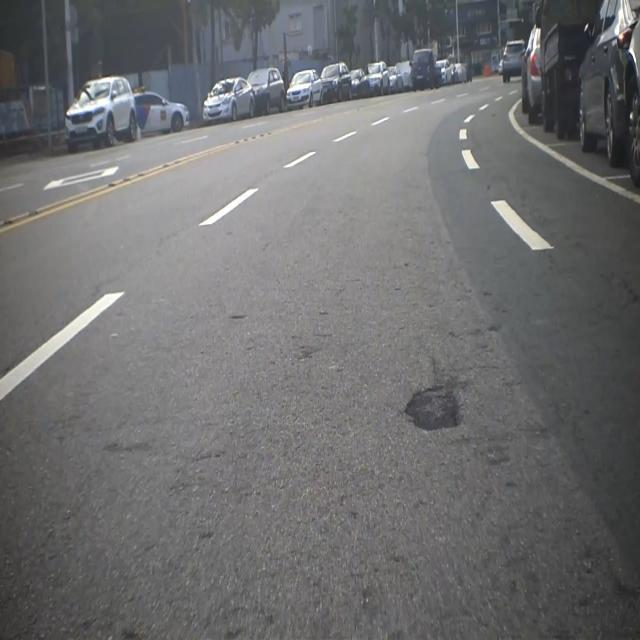pothole: (391, 366, 471, 438)
